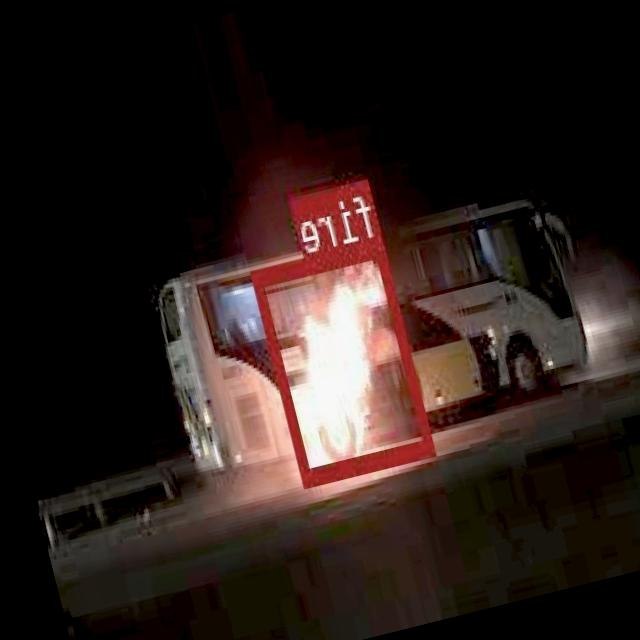fire: (252, 236, 435, 482)
